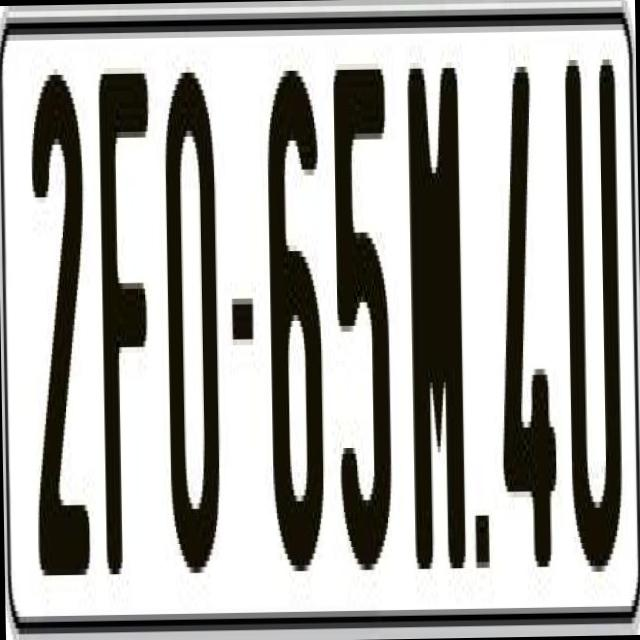0: (160, 65, 225, 567)
2: (27, 74, 92, 598)
4: (493, 65, 558, 590)
5: (332, 68, 402, 587)
6: (263, 58, 330, 589)
F: (94, 55, 152, 580)
M: (402, 62, 467, 574)
U: (562, 59, 620, 578)
